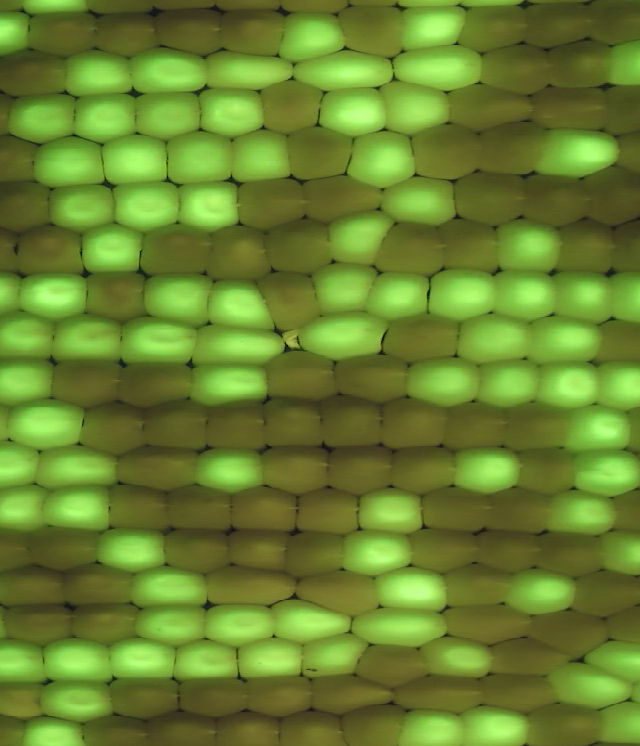fluorescent: (387, 42, 490, 96), (4, 393, 90, 456), (185, 321, 291, 372), (342, 129, 425, 194), (113, 312, 205, 370), (29, 439, 126, 494), (375, 171, 463, 229), (181, 359, 275, 413), (335, 523, 422, 581), (140, 269, 220, 332), (289, 47, 398, 93), (347, 603, 455, 649), (325, 205, 401, 270), (370, 560, 455, 618), (402, 355, 495, 408), (46, 308, 130, 366), (378, 77, 456, 139), (453, 309, 539, 365), (31, 133, 114, 191), (36, 636, 125, 690), (33, 672, 122, 726), (199, 47, 299, 95), (425, 265, 505, 324), (205, 275, 283, 335), (1, 90, 85, 145), (92, 521, 173, 578), (349, 484, 434, 538), (65, 89, 143, 147), (111, 177, 187, 236), (313, 85, 396, 139), (266, 594, 352, 646), (189, 84, 266, 142), (161, 128, 238, 186), (491, 217, 566, 276), (126, 43, 212, 94), (37, 479, 115, 535), (127, 599, 216, 648), (312, 258, 385, 317), (75, 219, 149, 277), (361, 267, 435, 325), (60, 46, 139, 100), (12, 269, 91, 323), (97, 130, 173, 186), (493, 263, 565, 322), (130, 90, 206, 145), (169, 179, 245, 234), (451, 443, 527, 498), (126, 561, 213, 609), (295, 630, 375, 682), (275, 8, 349, 64), (225, 127, 295, 186), (548, 661, 634, 709), (468, 357, 547, 409), (106, 634, 186, 685), (201, 599, 282, 649), (190, 443, 267, 495), (552, 268, 620, 325), (395, 4, 472, 54), (45, 182, 118, 233), (235, 634, 310, 683), (546, 126, 621, 175), (456, 701, 536, 746), (532, 315, 603, 365), (423, 633, 498, 680), (0, 309, 63, 363), (0, 355, 62, 409), (168, 639, 245, 682), (546, 488, 616, 535), (506, 570, 577, 615), (574, 449, 640, 496), (391, 707, 468, 746), (567, 406, 632, 452), (0, 481, 52, 536), (539, 362, 601, 408), (0, 635, 53, 686), (0, 438, 45, 493), (20, 712, 91, 746), (593, 364, 640, 411), (585, 638, 640, 677), (597, 700, 640, 746), (597, 530, 640, 571), (0, 9, 35, 55), (610, 37, 640, 87)
nonfluorescent: (408, 115, 488, 184), (298, 170, 388, 229), (259, 214, 342, 277), (377, 309, 466, 367), (232, 174, 311, 239), (450, 169, 535, 229), (442, 79, 538, 132), (282, 118, 359, 184), (135, 390, 214, 454), (368, 218, 452, 278), (252, 266, 326, 333), (329, 349, 414, 407), (133, 219, 215, 279), (259, 346, 340, 406), (203, 563, 306, 610), (255, 72, 329, 137), (474, 40, 555, 99), (11, 221, 90, 281), (524, 608, 615, 659), (435, 599, 538, 644), (527, 81, 616, 133), (290, 568, 382, 618), (472, 115, 545, 178), (547, 218, 626, 276), (114, 356, 195, 412), (315, 391, 388, 453), (390, 674, 495, 717), (565, 564, 640, 624), (373, 392, 449, 451), (75, 398, 147, 460), (307, 670, 398, 719), (222, 483, 304, 537), (202, 219, 270, 284), (437, 397, 513, 455), (213, 5, 294, 59), (23, 6, 101, 62), (477, 670, 566, 719), (519, 699, 611, 746), (334, 3, 407, 62), (256, 445, 337, 498), (111, 446, 204, 492), (385, 440, 458, 498), (322, 440, 395, 498), (435, 213, 504, 274), (501, 397, 573, 455), (455, 1, 532, 55), (418, 483, 496, 536), (519, 176, 598, 228), (0, 44, 73, 100), (435, 559, 515, 610), (84, 269, 154, 327), (47, 359, 125, 411), (487, 633, 575, 679), (25, 523, 101, 576), (542, 37, 615, 92), (59, 561, 142, 609), (242, 672, 320, 723), (163, 483, 236, 537), (174, 673, 251, 724), (479, 483, 553, 536), (354, 640, 434, 689), (201, 399, 273, 453), (292, 485, 364, 539), (150, 4, 226, 55), (161, 525, 234, 578), (92, 6, 161, 62), (405, 526, 482, 576), (470, 527, 547, 577), (581, 162, 640, 227), (66, 600, 144, 649), (518, 1, 596, 50), (106, 674, 187, 721), (258, 398, 327, 453), (513, 443, 580, 499), (531, 528, 604, 578), (0, 562, 75, 610), (0, 601, 75, 649), (225, 526, 295, 577), (281, 528, 347, 581), (102, 484, 173, 533), (336, 701, 408, 746), (143, 707, 222, 746), (0, 177, 53, 235), (211, 710, 293, 746), (75, 711, 158, 746), (272, 709, 349, 746), (583, 1, 640, 47), (587, 317, 640, 366), (597, 80, 640, 139), (0, 131, 39, 189), (0, 679, 51, 721), (608, 217, 640, 279), (0, 522, 36, 576), (604, 600, 640, 652), (607, 484, 640, 538), (0, 713, 36, 746)
